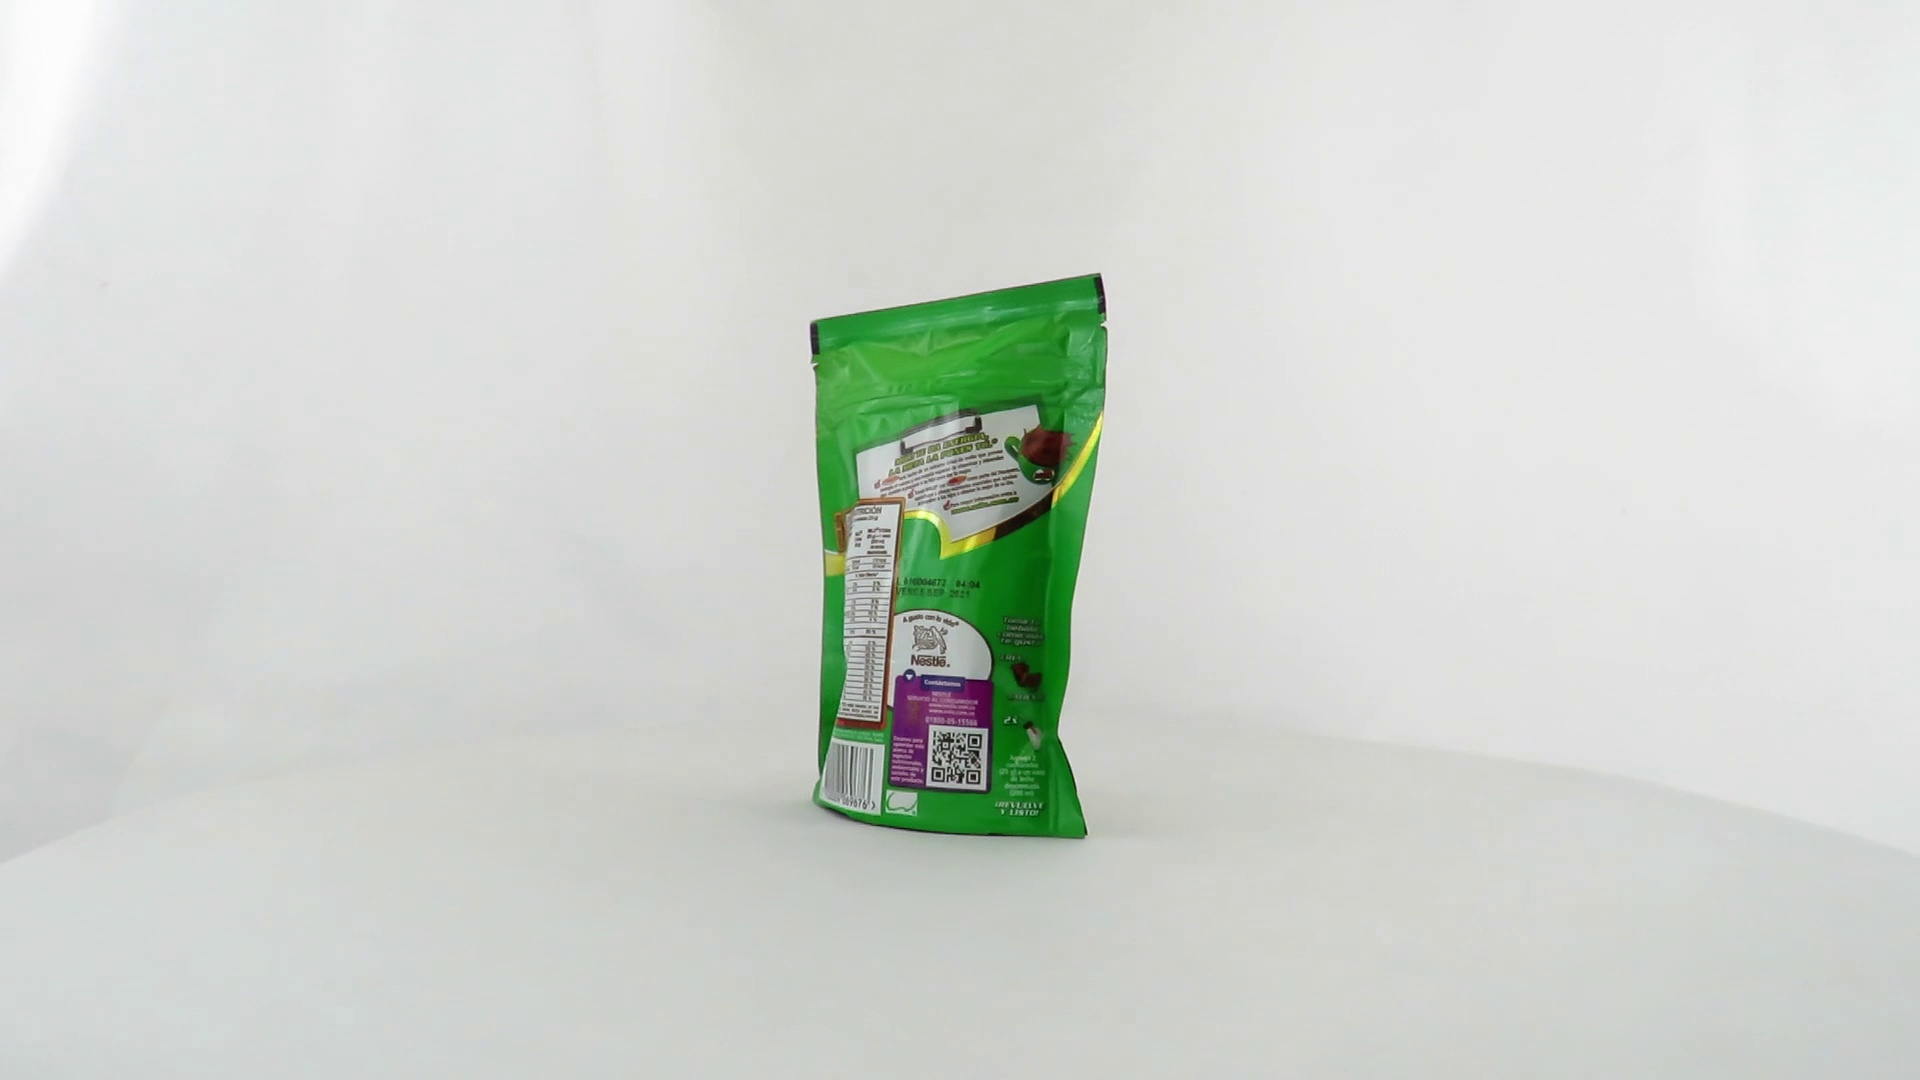COL0170203DYP10000: (779, 268, 1114, 847)
